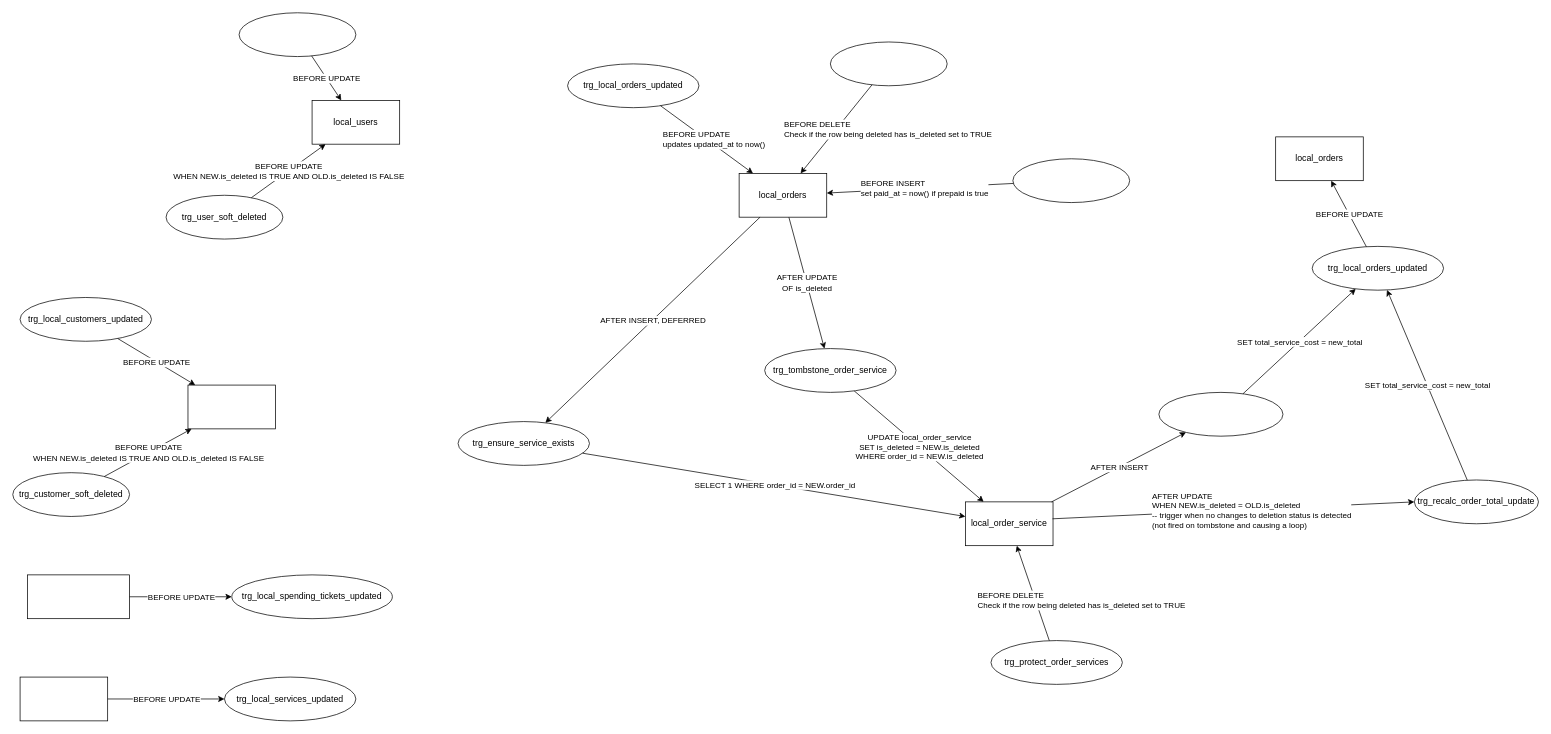
Image size: 1551x734. Some labels were removed from this diagram. Here are the shapes that lost their labels. From the top down, the centre of each, then its label:
At pixel 297 34: "trg_local_users_updated".
At pixel 888 63: "trg_protect_orders".
At pixel 1071 180: "trg_set_paid_at_prepaid".
At pixel 231 406: "local_customers".
At pixel 1220 414: "trg_recalc_order_total_insert".
At pixel 78 596: "local_spending_tickets".
At pixel 63 698: "local_services".
